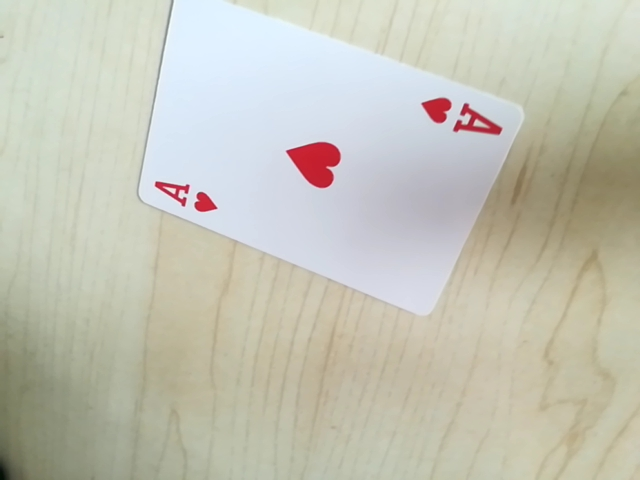hx a: (415, 91, 510, 147), (148, 173, 224, 218)
